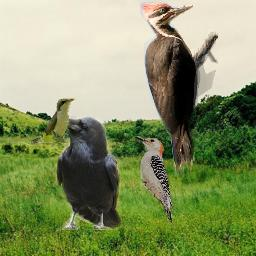Crow: (55, 116, 122, 230)
Cuckoo: (31, 97, 76, 150)
Woodpecker: (140, 2, 218, 177), (133, 132, 177, 228)
